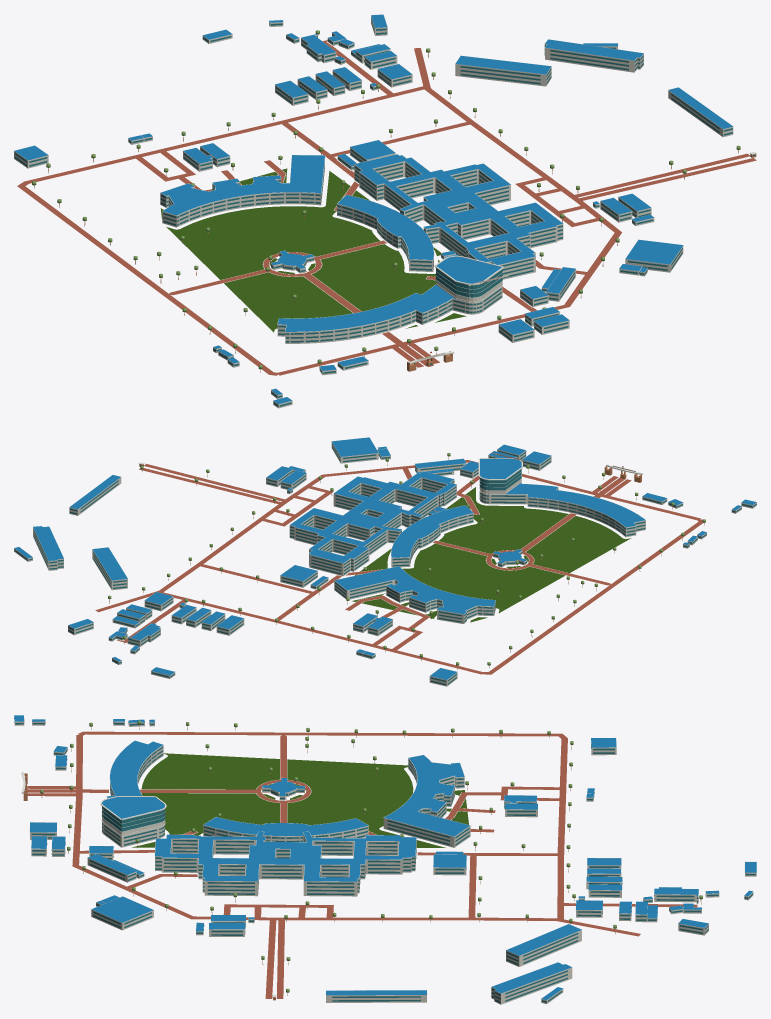
Rendered from an-giang-university-lod.glb.
The picture shows the model from 3 angles, top to bottom: view 1: azimuth 30°, elevation 25°; view 2: azimuth 150°, elevation 25°; view 3: azimuth 270°, elevation 25°; orthographic projection. The views are drawn at different scales.
Parts seen in each view (by area): view 1: AGU_Far_roof, AGU_Far_grass, AGU_Far_wall, AGU_Far_paving, AGU_Far_glass, AGU_Far_trim, AGU_Far_farleaf; view 2: AGU_Far_roof, AGU_Far_grass, AGU_Far_wall, AGU_Far_paving, AGU_Far_glass, AGU_Far_trim, AGU_Far_farleaf; view 3: AGU_Far_roof, AGU_Far_grass, AGU_Far_wall, AGU_Far_paving, AGU_Far_glass, AGU_Far_trim, AGU_Far_farleaf.
Boxes of the visible parts, bbox=[...] form: AGU_Far_roof: bbox=[14, 14, 732, 403]; AGU_Far_grass: bbox=[160, 168, 466, 332]; AGU_Far_wall: bbox=[14, 16, 733, 408]; AGU_Far_paving: bbox=[17, 40, 756, 375]; AGU_Far_glass: bbox=[15, 18, 755, 406]; AGU_Far_trim: bbox=[14, 14, 756, 408]; AGU_Far_farleaf: bbox=[32, 30, 740, 369]; AGU_Far_roof: bbox=[14, 437, 756, 679]; AGU_Far_grass: bbox=[352, 487, 631, 622]; AGU_Far_wall: bbox=[14, 442, 756, 686]; AGU_Far_paving: bbox=[95, 460, 703, 674]; AGU_Far_glass: bbox=[15, 443, 756, 685]; AGU_Far_trim: bbox=[14, 437, 756, 686]; AGU_Far_farleaf: bbox=[108, 453, 705, 665]; AGU_Far_roof: bbox=[14, 715, 756, 999]; AGU_Far_grass: bbox=[132, 753, 468, 847]; AGU_Far_wall: bbox=[14, 722, 756, 1004]; AGU_Far_paving: bbox=[27, 731, 697, 998]; AGU_Far_glass: bbox=[14, 718, 755, 1002]; AGU_Far_trim: bbox=[14, 715, 756, 1004]; AGU_Far_farleaf: bbox=[40, 720, 702, 992].
Size of the model in its own units: 617 by 30 by 678.
Materials: 10 (5 with a texture image).
